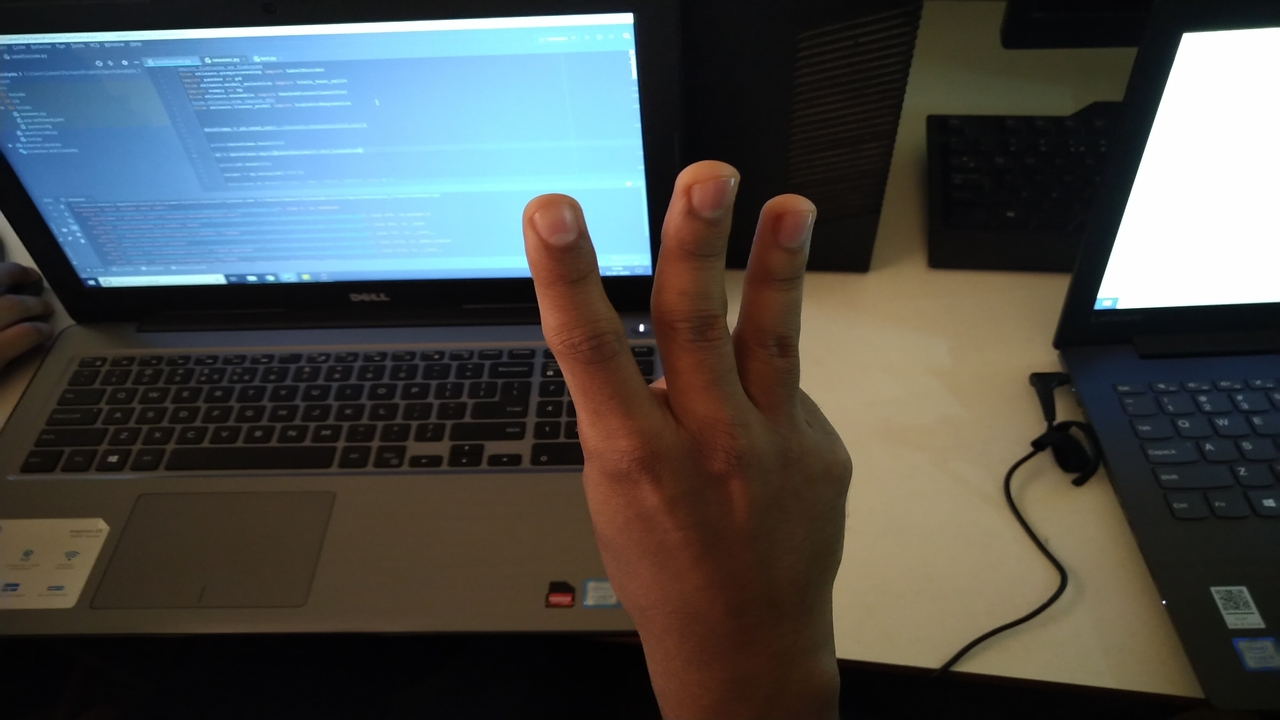fingertip: (514, 188, 592, 256), (662, 156, 742, 222), (754, 184, 822, 246)
